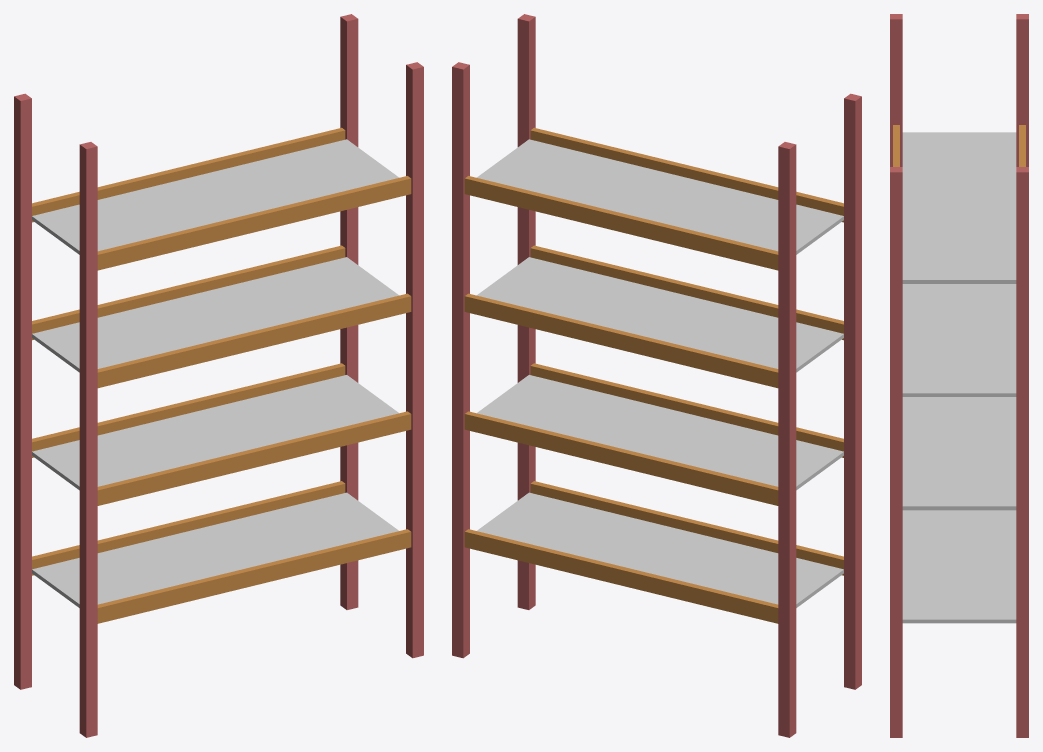
Rendered from shelf-beam-heavy.glb.
The picture shows the model from 3 angles, left to right: view 1: azimuth 30°, elevation 25°; view 2: azimuth 150°, elevation 25°; view 3: azimuth 270°, elevation 25°; orthographic projection. The views are drawn at different scales.
Visible parts, largest first — view 1: deck_3, deck_4, deck_1, deck_2, upright_0, upright_2, upright_1, beam_front_1, beam_front_2, beam_front_4, beam_front_3, upright_3 (+4 smaller); view 2: deck_3, deck_4, deck_1, deck_2, upright_2, upright_0, upright_3, beam_back_1, beam_back_2, beam_back_4, beam_back_3, upright_1 (+4 smaller); view 3: deck_4, deck_1, deck_2, deck_3, upright_1, upright_3, upright_0, upright_2, beam_front_4, beam_back_4.
Boxes of the visible parts, x1=… form: deck_3: x1=32, y1=257, x2=399, y2=372; deck_4: x1=32, y1=139, x2=399, y2=254; deck_1: x1=32, y1=492, x2=398, y2=607; deck_2: x1=32, y1=375, x2=398, y2=490; upright_0: x1=79, y1=142, x2=97, y2=737; upright_2: x1=14, y1=93, x2=31, y2=689; upright_1: x1=406, y1=62, x2=423, y2=658; beam_front_1: x1=97, y1=529, x2=411, y2=623; beam_front_2: x1=97, y1=411, x2=411, y2=505; beam_front_4: x1=97, y1=176, x2=411, y2=270; beam_front_3: x1=97, y1=293, x2=411, y2=388; upright_3: x1=340, y1=14, x2=358, y2=609; deck_3: x1=476, y1=257, x2=843, y2=372; deck_4: x1=476, y1=139, x2=843, y2=254; deck_1: x1=477, y1=492, x2=843, y2=607; deck_2: x1=477, y1=375, x2=843, y2=490; upright_2: x1=778, y1=142, x2=796, y2=737; upright_0: x1=844, y1=93, x2=861, y2=689; upright_3: x1=452, y1=62, x2=469, y2=658; beam_back_1: x1=464, y1=529, x2=778, y2=623; beam_back_2: x1=464, y1=411, x2=778, y2=505; beam_back_4: x1=464, y1=176, x2=778, y2=270; beam_back_3: x1=464, y1=293, x2=778, y2=388; upright_1: x1=517, y1=14, x2=535, y2=609; deck_4: x1=902, y1=132, x2=1016, y2=283; deck_1: x1=902, y1=510, x2=1016, y2=623; deck_2: x1=902, y1=397, x2=1016, y2=510; deck_3: x1=902, y1=284, x2=1016, y2=396; upright_1: x1=890, y1=167, x2=902, y2=737; upright_3: x1=1016, y1=167, x2=1028, y2=737; upright_0: x1=890, y1=14, x2=902, y2=166; upright_2: x1=1016, y1=14, x2=1028, y2=166; beam_front_4: x1=893, y1=125, x2=899, y2=166; beam_back_4: x1=1019, y1=125, x2=1025, y2=166.
Bounding box in the file's own units: 2700 × 4500 × 1000.
